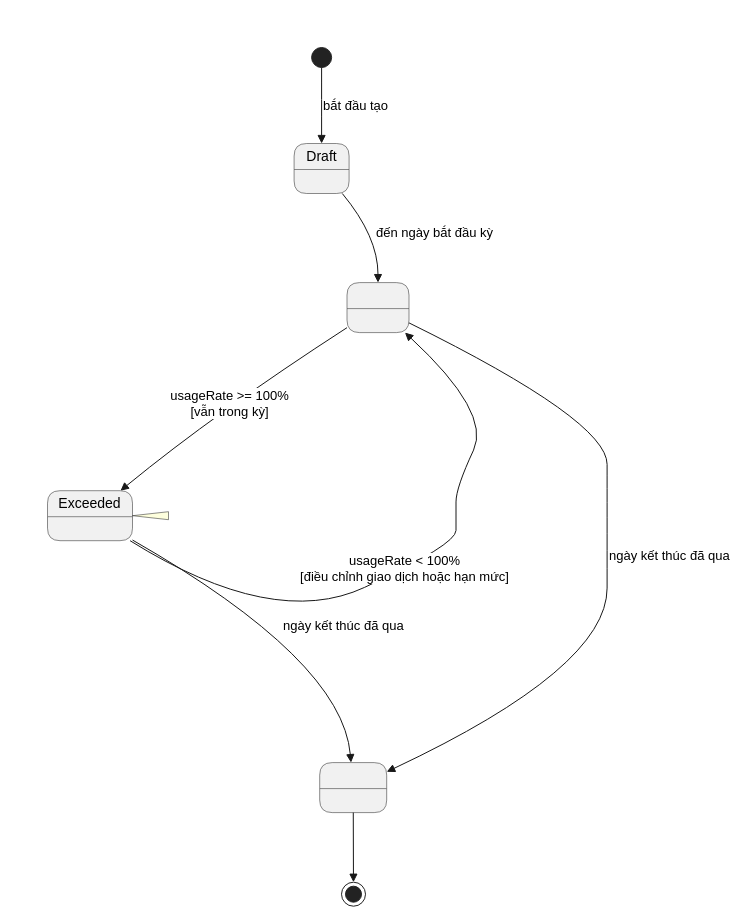
This 747x924 diagram has some shape labels left out. The centre of each missing label's shape, as x and y in pixels:
Active: [377,307]
Closed: [352,787]
